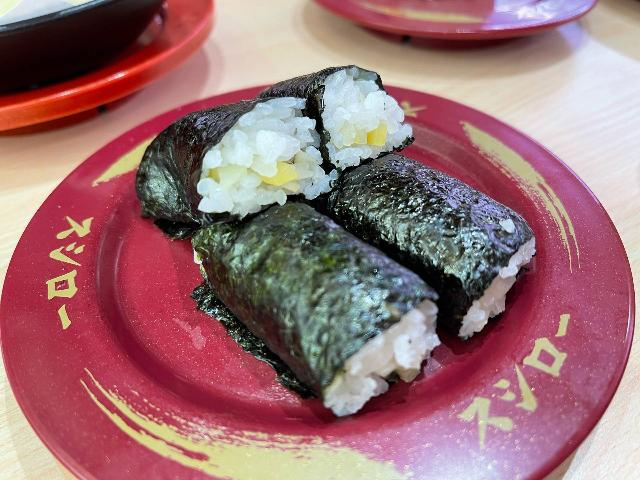janred: (0, 91, 618, 478), (0, 0, 227, 105), (293, 0, 600, 51)
